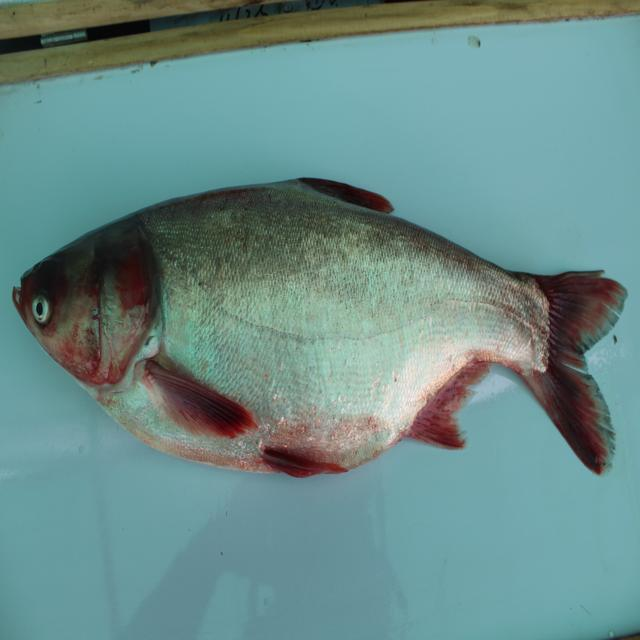SilverCarp: (3, 199, 620, 476)
